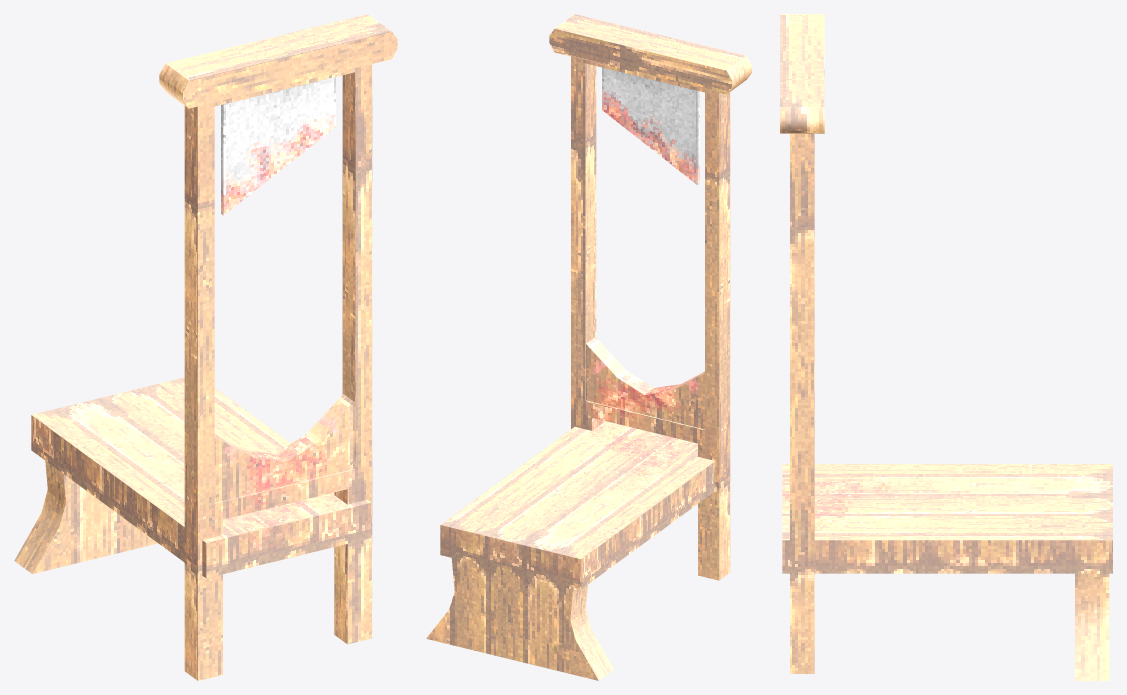
File: guillotine.glb
3 views of the same model, side by side, from view 1: azimuth 30°, elevation 25°; view 2: azimuth 150°, elevation 25°; view 3: azimuth 270°, elevation 25° (orthographic). The views are drawn at different scales.
Parts seen in each view (by area): view 1: Guillotine; view 2: Guillotine; view 3: Guillotine.
Boxes of the visible parts, x1,y1,x2,y2 form: Guillotine: (14,14,397,680); Guillotine: (426,14,751,680); Guillotine: (780,14,1112,680).
Size of the model in its own units: 3.53 by 9.55 by 5.03.
